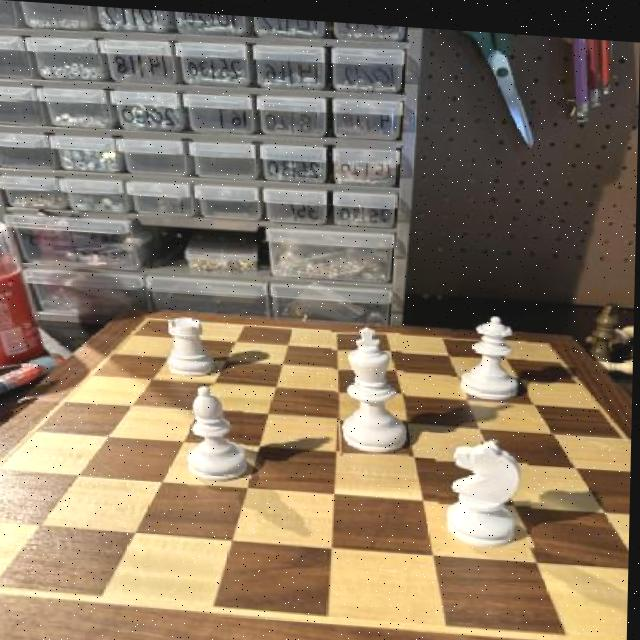black-rook: (184, 379, 249, 485)
white-bishop: (333, 318, 412, 454)
white-king: (436, 431, 536, 545)
white-pawn: (449, 306, 529, 394)
white-queen: (159, 307, 221, 377)
